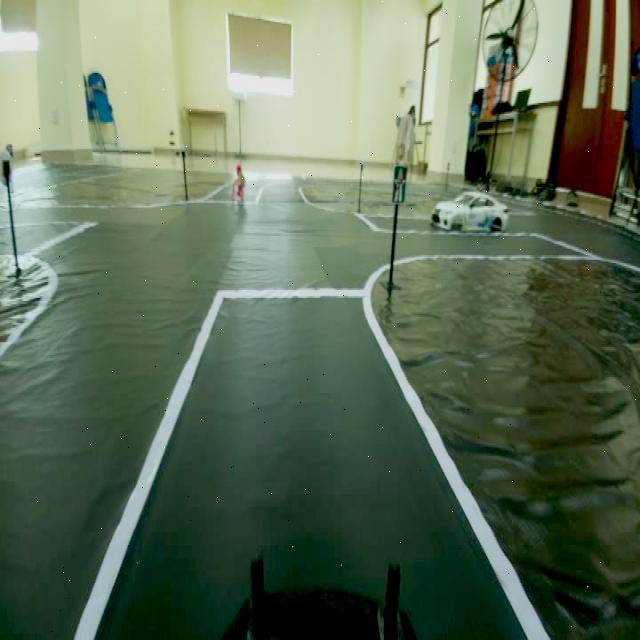highway_exit: (390, 163, 410, 208)
